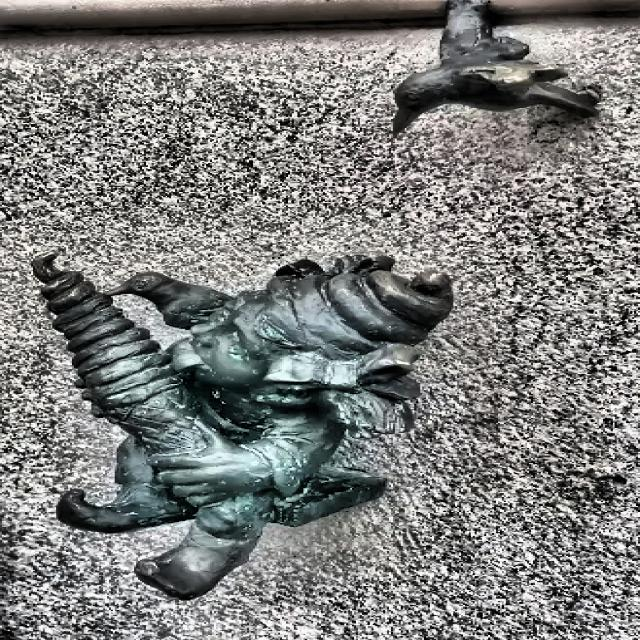Dziupelka: (31, 256, 453, 602), (393, 0, 601, 134)
